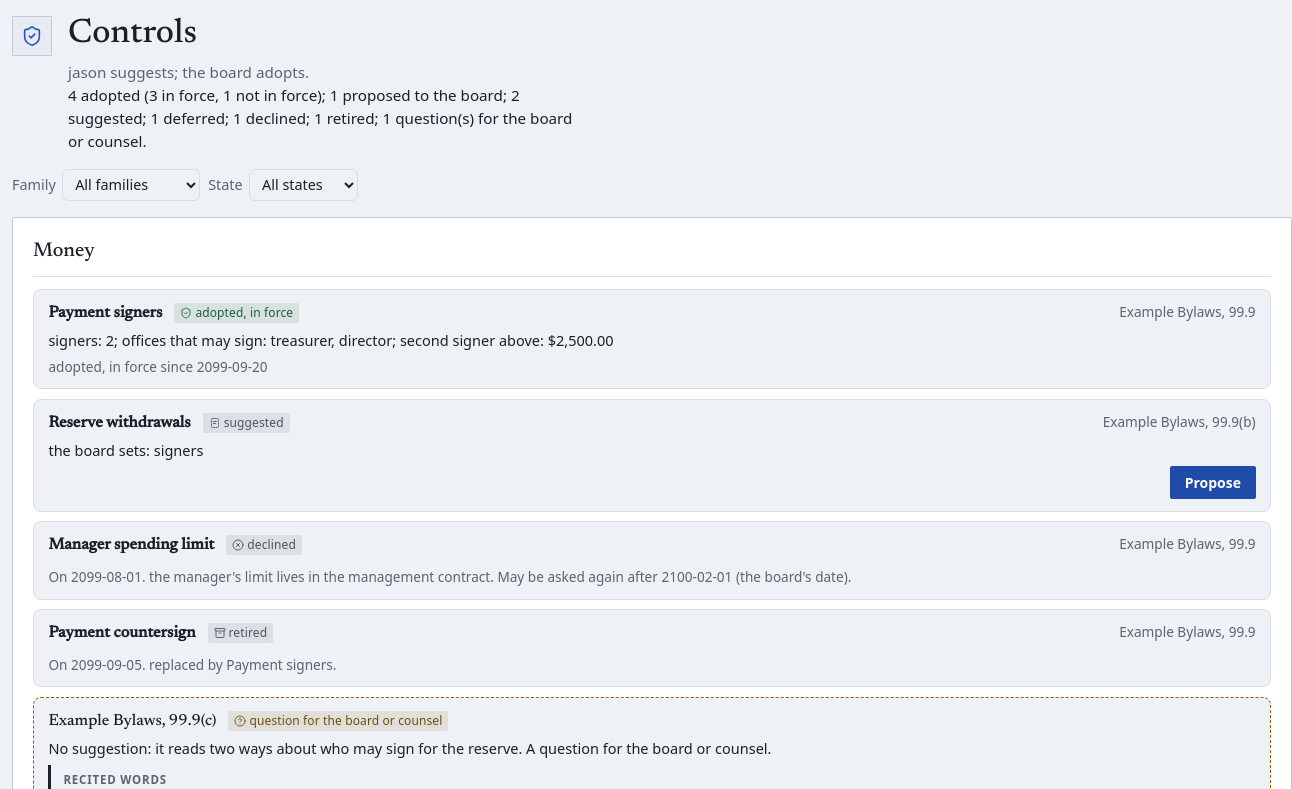
Controls, the list › shows the server's sentence when a proposal is refused, and nothing changes
The image size is (1292, 789).
Expected: the heading "Money" is shown, [33,236,95,266]
Click the button named "Propose Reserve withdrawals to the board" at (1213, 483), box [1170,466,1256,499]
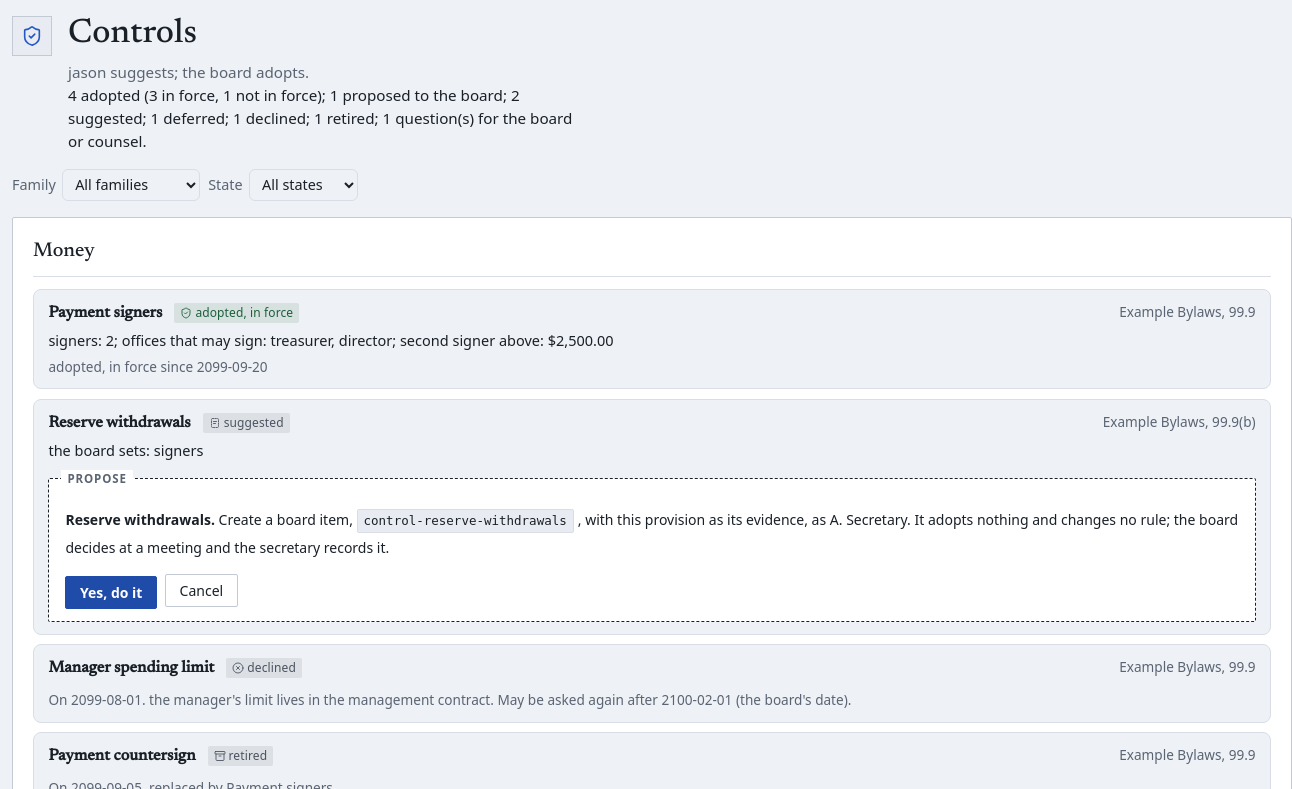
Click the button "Yes, do it" at (111, 593), box [65,576,157,610]
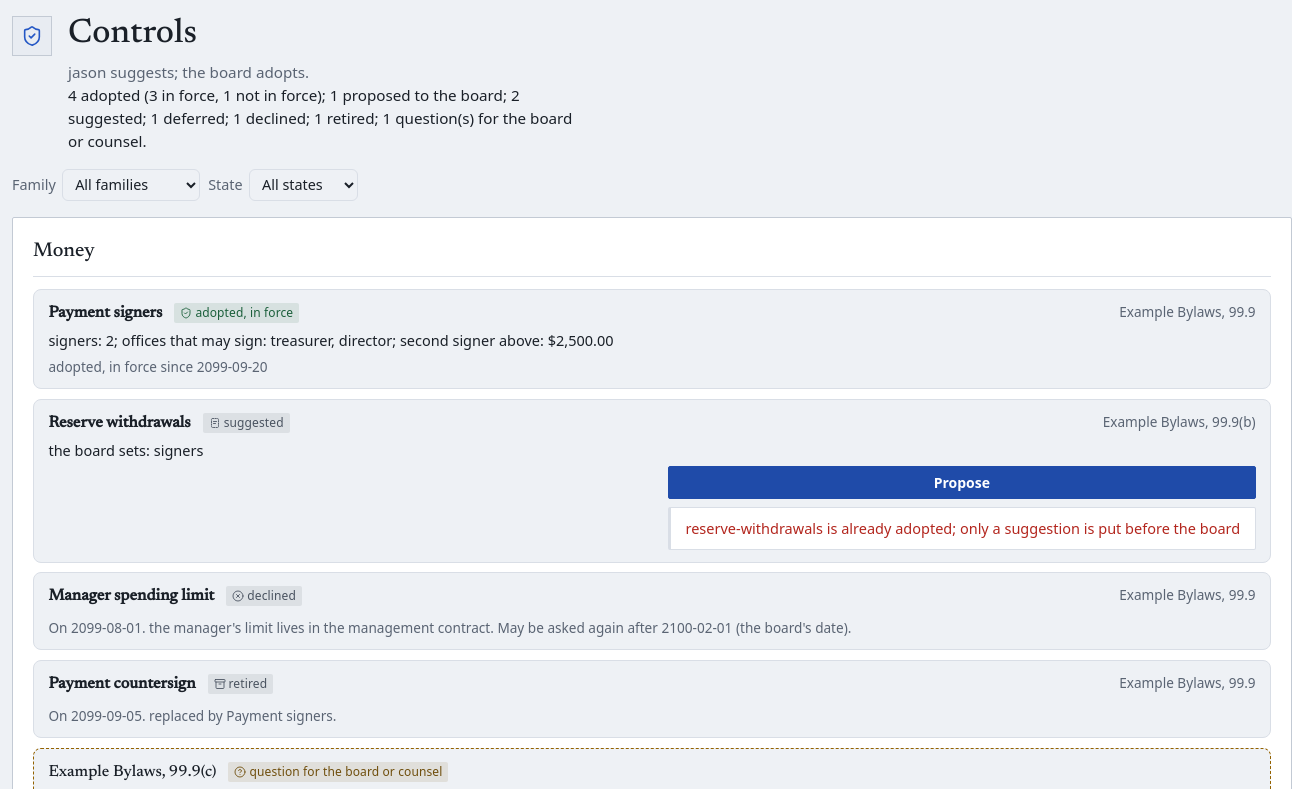
Expected: the message shows "only a suggestion is put before the board", [686,518,1240,538]
